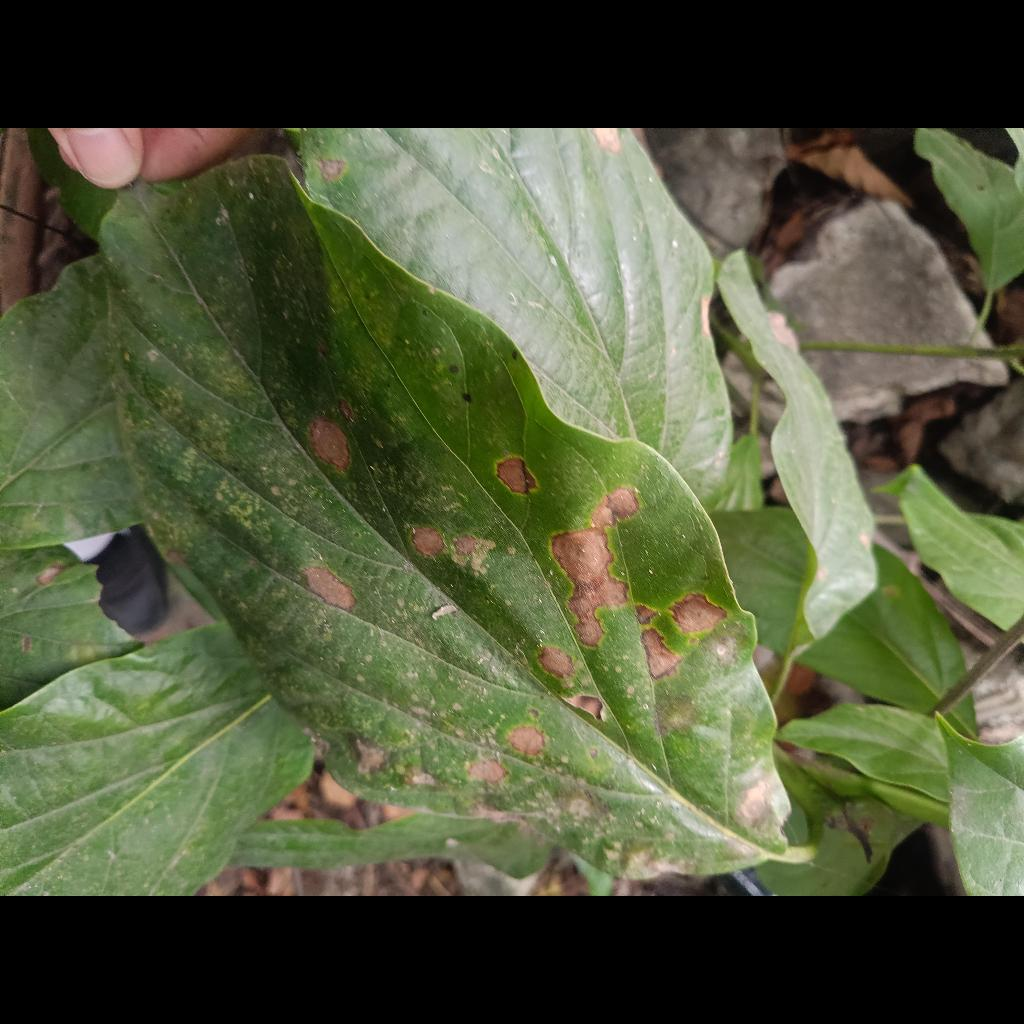antracnosis_hoja: (100, 158, 788, 873)
